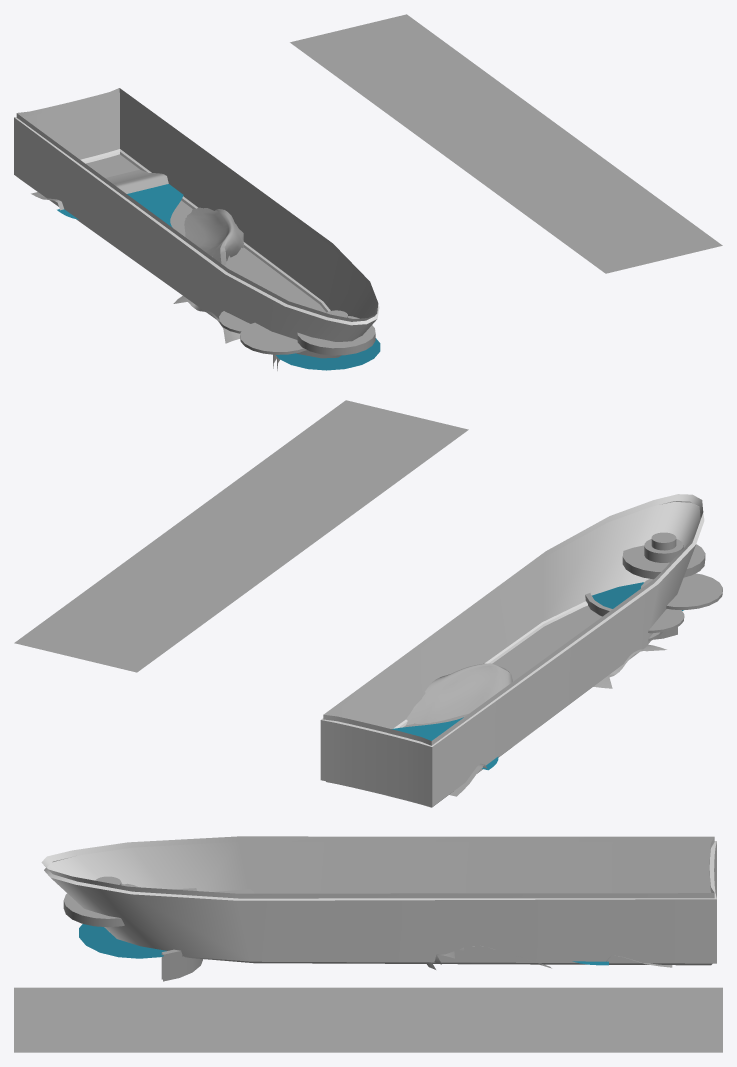
Rendered from winterlevel.fbx.
3 renders of one model, top to bottom at view 1: azimuth 30°, elevation 25°; view 2: azimuth 150°, elevation 25°; view 3: azimuth 270°, elevation 25°, orthographic. The views are drawn at different scales.
Visible parts, largest first — view 1: pPlane12, pPlane2, pPlane6, pCylinder24, pCylinder19, pCylinder14, pPlane5, pPlane8; view 2: pPlane12, pPlane2, pPlane6, pCylinder24, pCylinder14, pPlane5, pCylinder19; view 3: pPlane12, pPlane2, pCylinder19, pCylinder24, pPipe3.
Boxes of the visible parts, x1,y1,x2,y2 form: pPlane12: (14,88,379,358); pPlane2: (290,14,722,273); pPlane6: (184,207,243,265); pCylinder24: (297,310,375,355); pCylinder19: (276,338,380,370); pCylinder14: (240,322,306,354); pPlane5: (57,184,183,227); pPlane8: (31,169,168,210); pPlane12: (320,494,704,807); pPlane2: (14,400,468,672); pPlane6: (406,663,512,725); pCylinder24: (622,532,705,579); pCylinder14: (641,573,722,609); pPlane5: (391,717,498,770); pCylinder19: (592,582,683,610); pPlane12: (41,836,716,965); pPlane2: (14,987,722,1052); pCylinder19: (79,924,166,958); pCylinder24: (63,876,138,927); pPipe3: (161,949,203,981).
Size of the model in its own units: 2363 by 455 by 3110.
